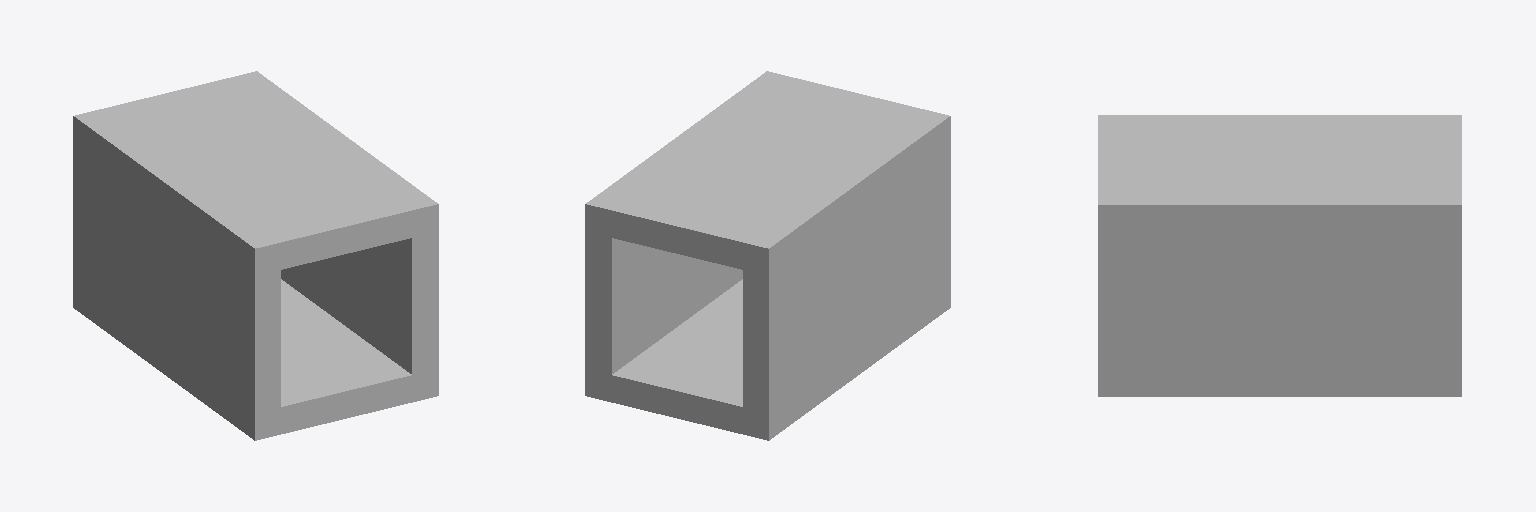
File: floor.obj
3 renders of one model, left to right at view 1: azimuth 30°, elevation 25°; view 2: azimuth 150°, elevation 25°; view 3: azimuth 270°, elevation 25°, orthographic.
Parts seen in each view (by area): view 1: Cube; view 2: Cube; view 3: Cube.
Part boxes in pixels (bbox=[...]): Cube: bbox=[73, 71, 438, 440]; Cube: bbox=[585, 71, 950, 440]; Cube: bbox=[1098, 115, 1461, 396].
Size of the model in its own units: 0.294 by 0.294 by 0.504.